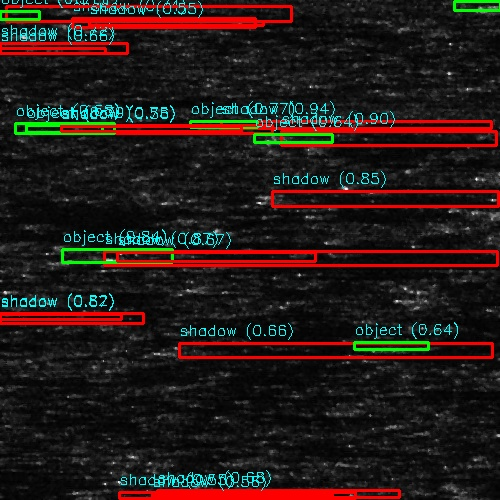rock: (38, 247, 183, 266), (307, 77, 380, 88), (421, 490, 500, 500), (79, 490, 184, 497), (161, 213, 234, 222), (438, 174, 500, 183), (263, 135, 304, 148), (410, 294, 483, 301), (465, 0, 500, 13), (52, 19, 115, 26), (215, 54, 288, 59), (247, 196, 310, 201), (193, 123, 256, 128), (208, 226, 261, 231), (453, 208, 500, 213), (382, 389, 423, 394), (398, 344, 429, 347), (0, 207, 12, 212), (0, 314, 6, 321)
shadow: (111, 247, 500, 266), (0, 364, 123, 395), (284, 135, 500, 148), (0, 366, 203, 377), (198, 213, 426, 222), (0, 311, 127, 326), (132, 490, 372, 497), (84, 19, 297, 26), (225, 123, 500, 128), (279, 196, 500, 201), (0, 314, 140, 321), (344, 77, 419, 88), (0, 207, 131, 212), (0, 460, 116, 465), (403, 389, 500, 394), (235, 226, 312, 231), (447, 294, 500, 301), (252, 54, 325, 59), (67, 128, 420, 129), (468, 490, 500, 500), (414, 344, 500, 347), (490, 208, 500, 213)
